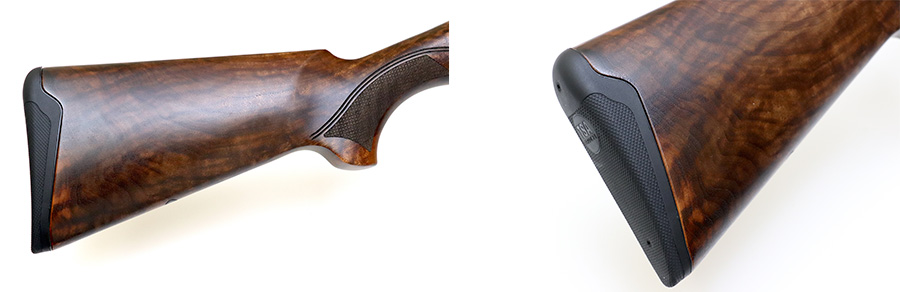weapon: (29, 15, 447, 256), (553, 1, 900, 284)
